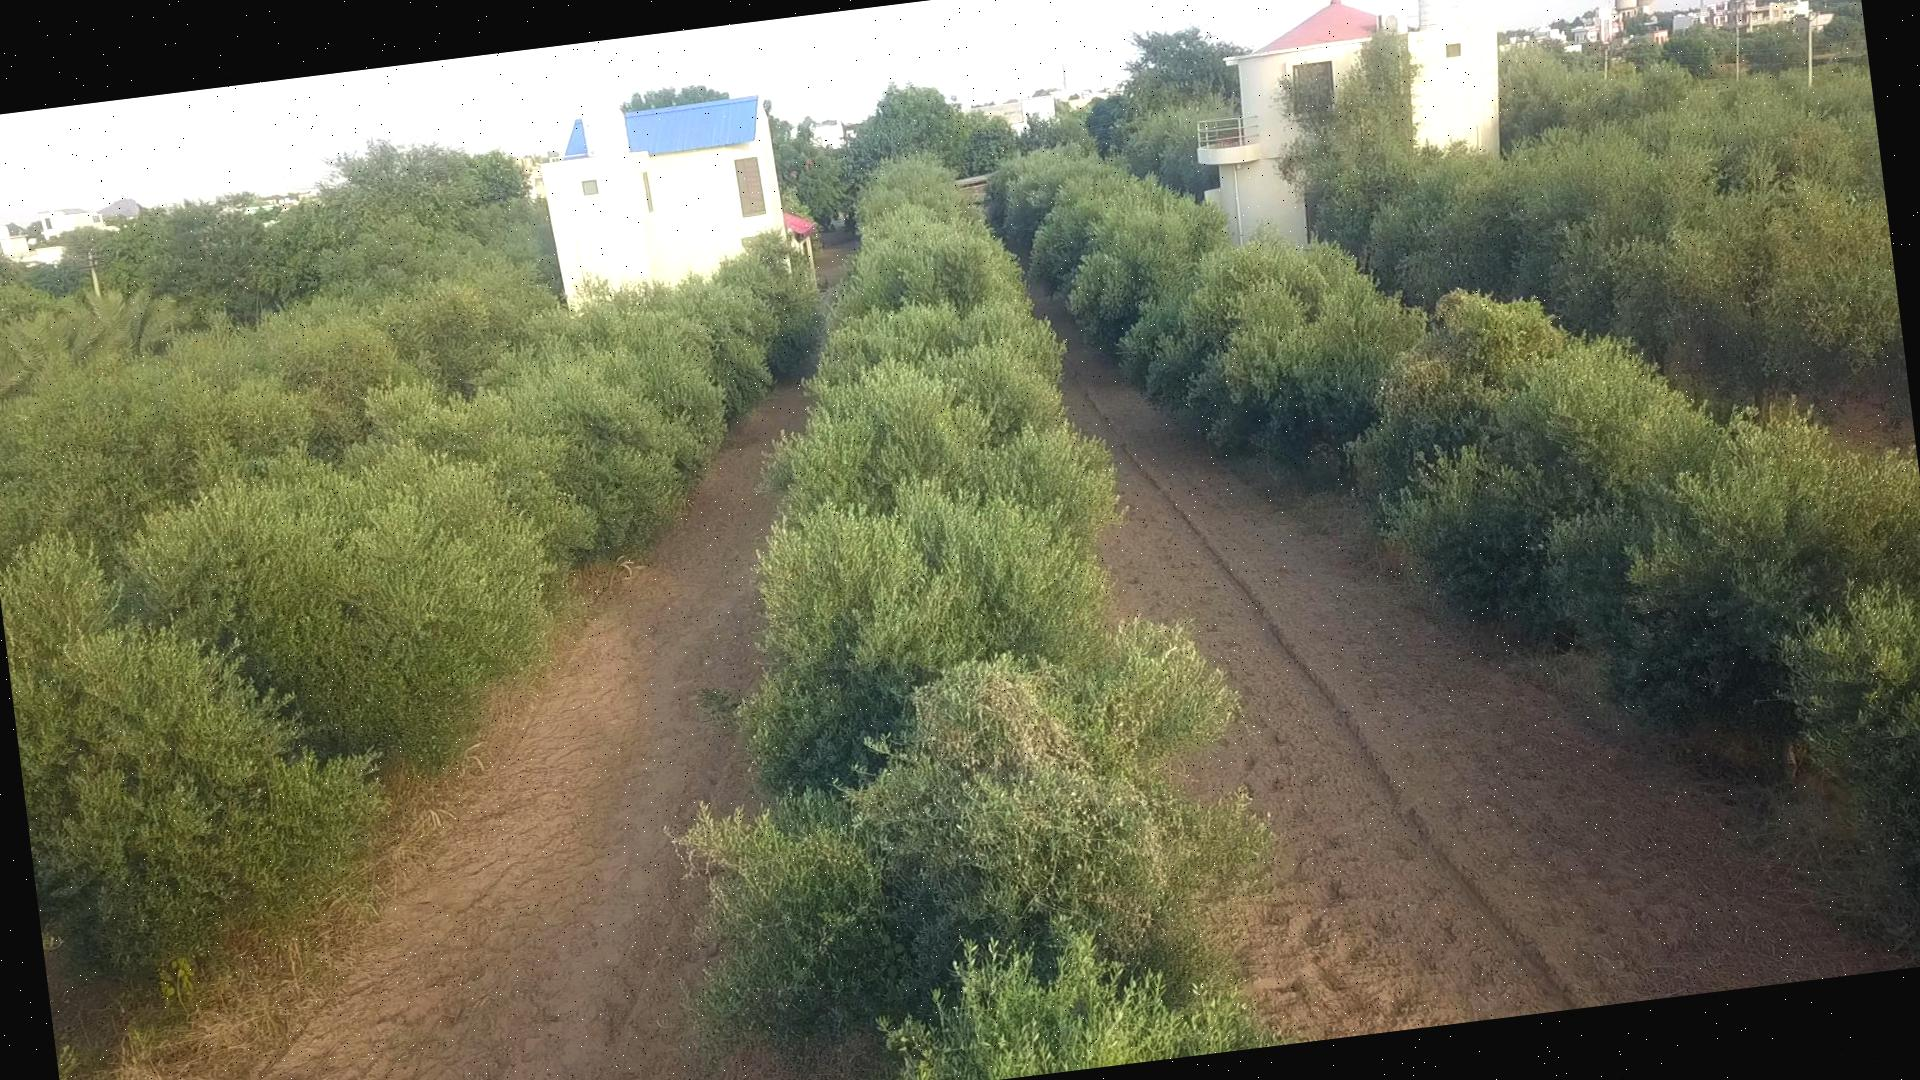canopy: (986, 149, 1920, 893), (0, 255, 816, 976), (675, 157, 1270, 1080), (1308, 75, 1911, 417)
road: (1038, 306, 1907, 1035), (256, 384, 807, 1080)
